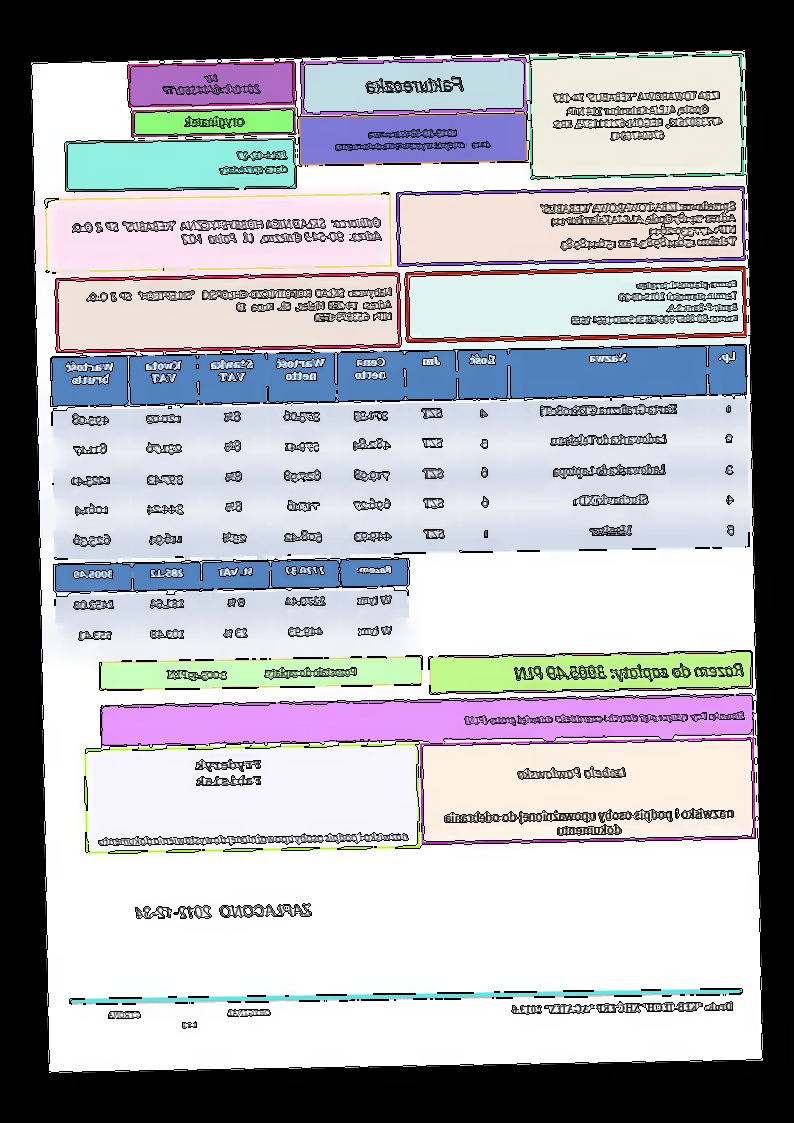Table: (50, 343, 751, 562), (52, 555, 412, 655)
TextBox: (84, 285, 394, 328), (538, 197, 739, 253), (69, 215, 385, 248), (550, 87, 725, 143), (444, 806, 736, 839), (570, 277, 740, 326), (97, 827, 411, 849), (512, 659, 746, 682), (463, 710, 746, 727), (333, 126, 493, 154), (509, 999, 736, 1018), (107, 1006, 272, 1031), (132, 901, 315, 923), (165, 664, 359, 682), (160, 70, 263, 100), (192, 757, 264, 788), (218, 149, 289, 179), (365, 75, 464, 95), (516, 765, 628, 781), (182, 114, 247, 130)
